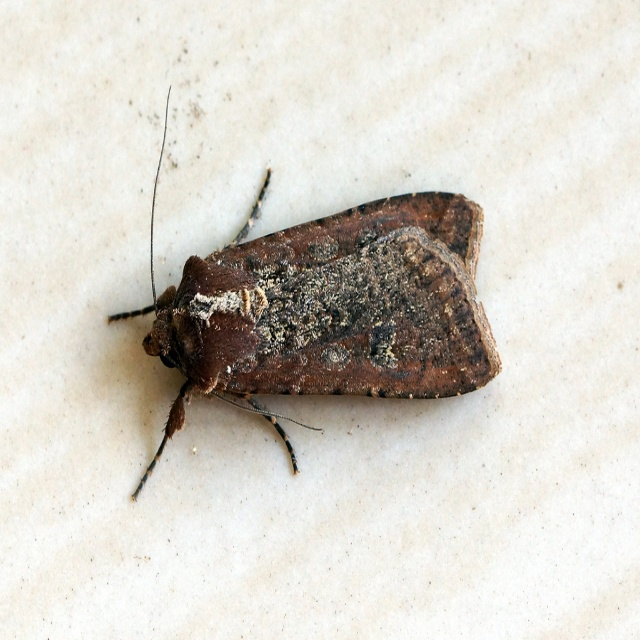Moths and butterflies: (102, 83, 503, 501)
